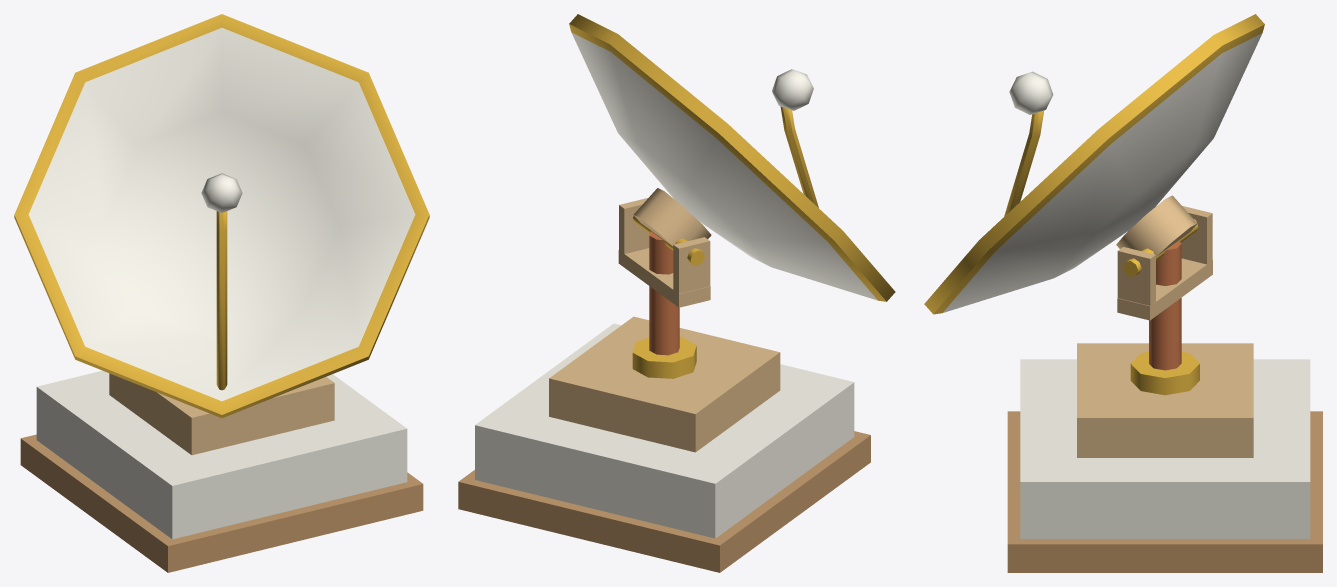
Rendered from satellite-dish.lod1.glb.
3 views of the same model, side by side, from view 1: azimuth 30°, elevation 25°; view 2: azimuth 150°, elevation 25°; view 3: azimuth 270°, elevation 25° (orthographic). The views are drawn at different scales.
Parts seen in each view (by area): view 1: satellite-dish_lod1; view 2: satellite-dish_lod1; view 3: satellite-dish_lod1.
Boxes of the visible parts, x1,y1,x2,y2 form: satellite-dish_lod1: (14, 14, 429, 572); satellite-dish_lod1: (458, 14, 895, 572); satellite-dish_lod1: (924, 14, 1322, 572).
Size of the model in its own units: 0.6238 by 0.8453 by 0.6324.
